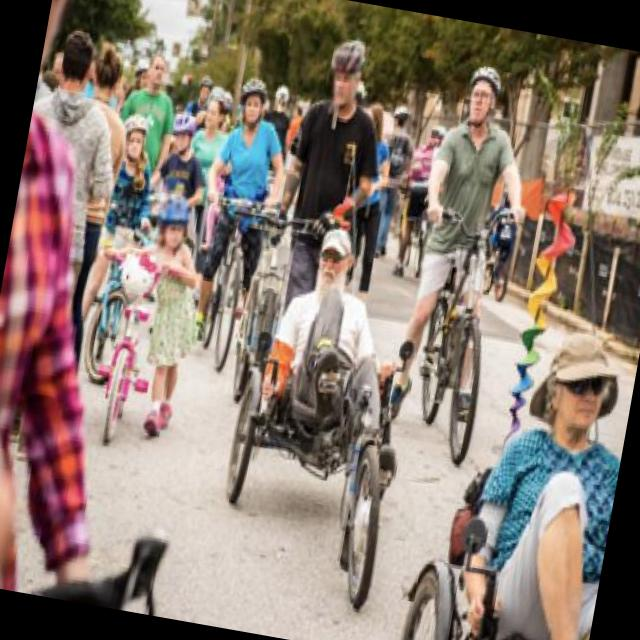With Helmet: (322, 37, 368, 118), (461, 61, 508, 130), (152, 181, 194, 254), (232, 74, 272, 128), (168, 106, 198, 159)
